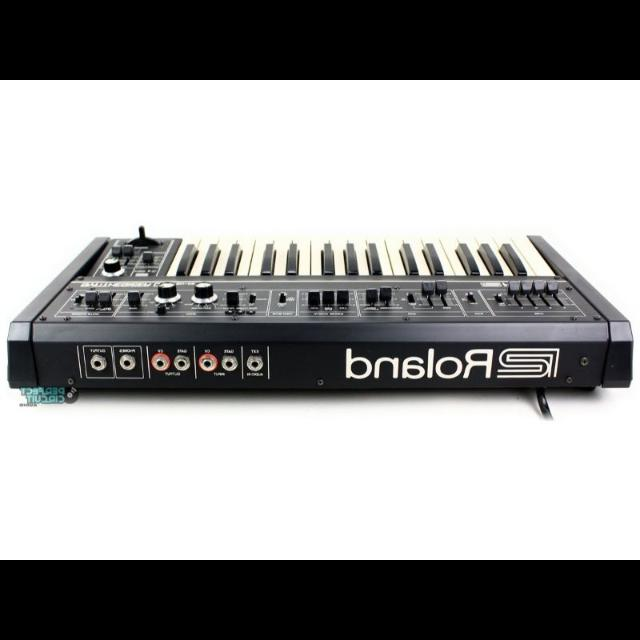Electronic-Keyboard: (16, 228, 630, 408)
